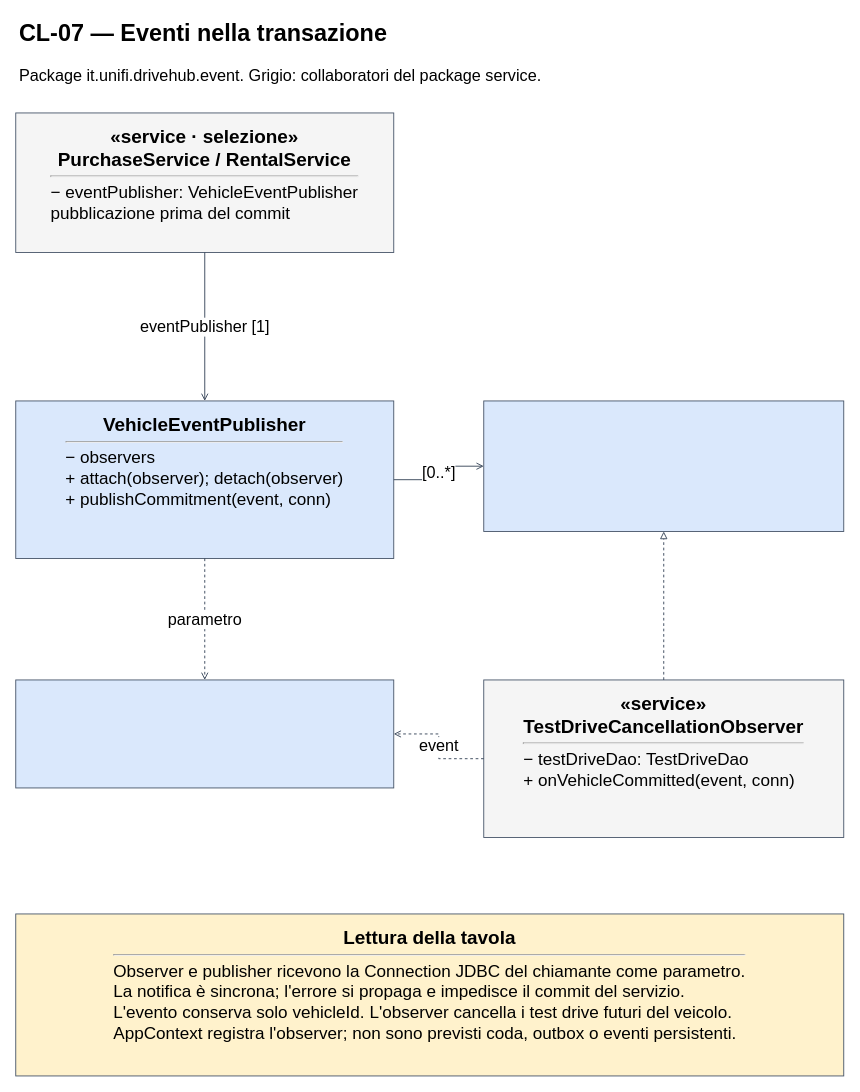
This 860x1092 diagram has some shape labels left out. Here are the shapes that lost their labels. From the top down, the centre of each, then its label:
At (x=663, y=465): "«interface» VehicleCommitmentObserver + onVehicleCommitted(event, conn)".
At (x=204, y=733): "«record» VehicleCommitmentEvent vehicleId: Long {ID}".
